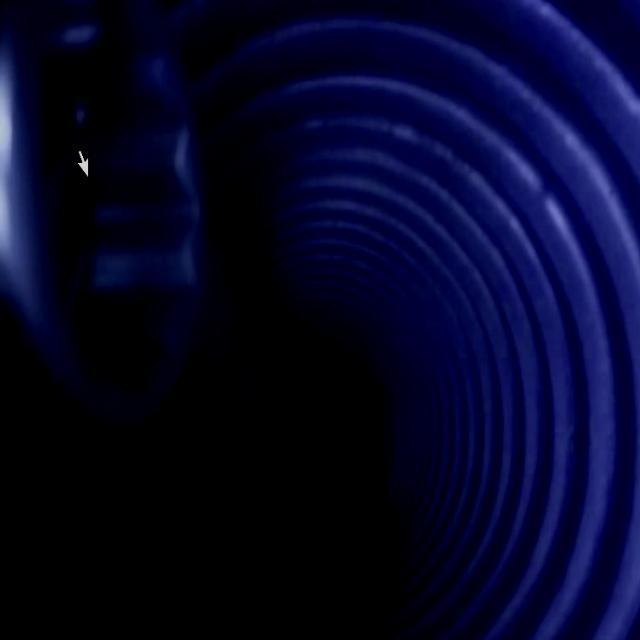metal piece: (1, 0, 208, 420)
